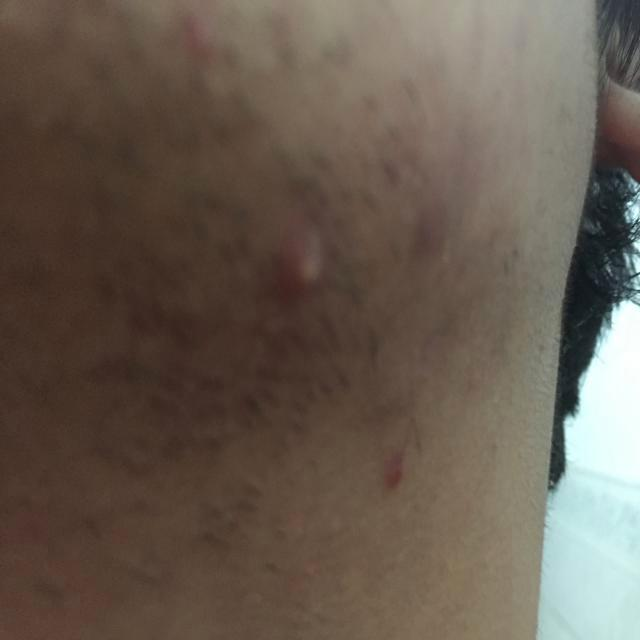Pimples: (258, 203, 347, 318)
